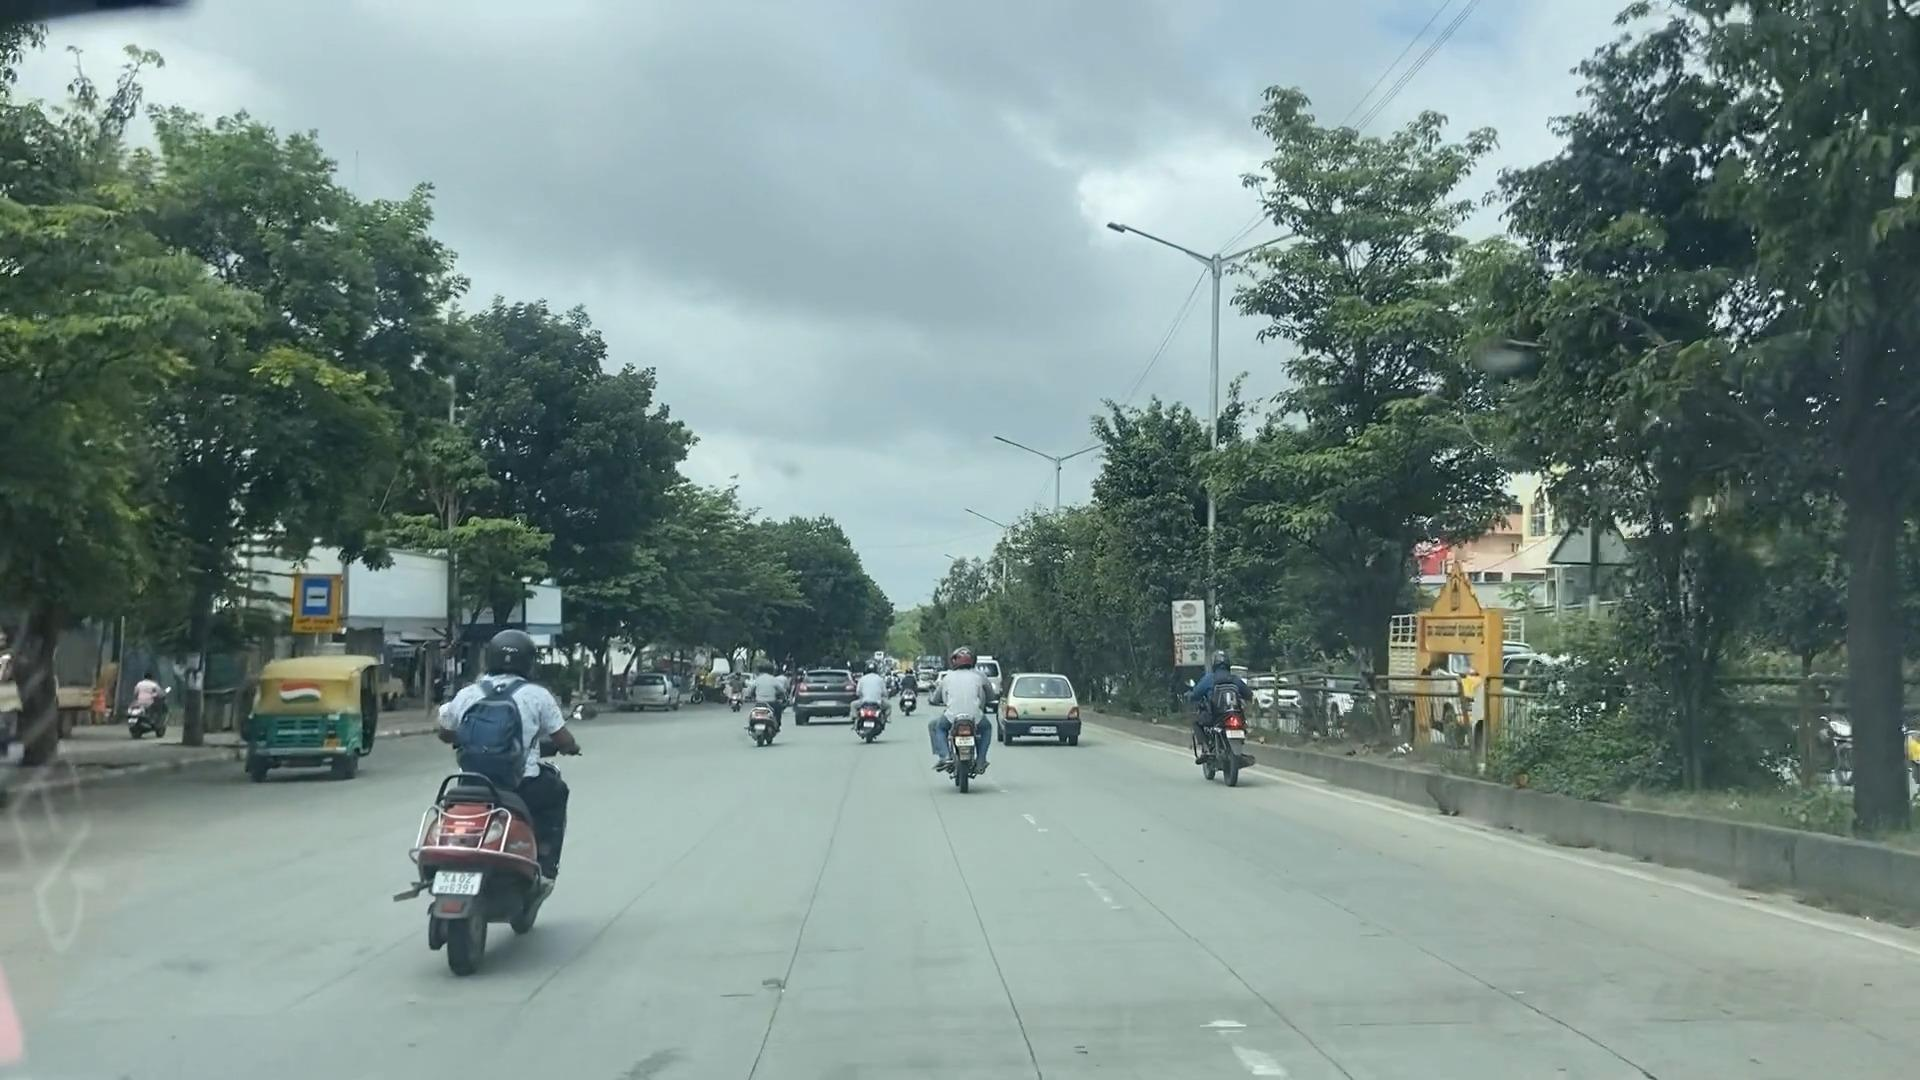LMV: (228, 616, 405, 822)
